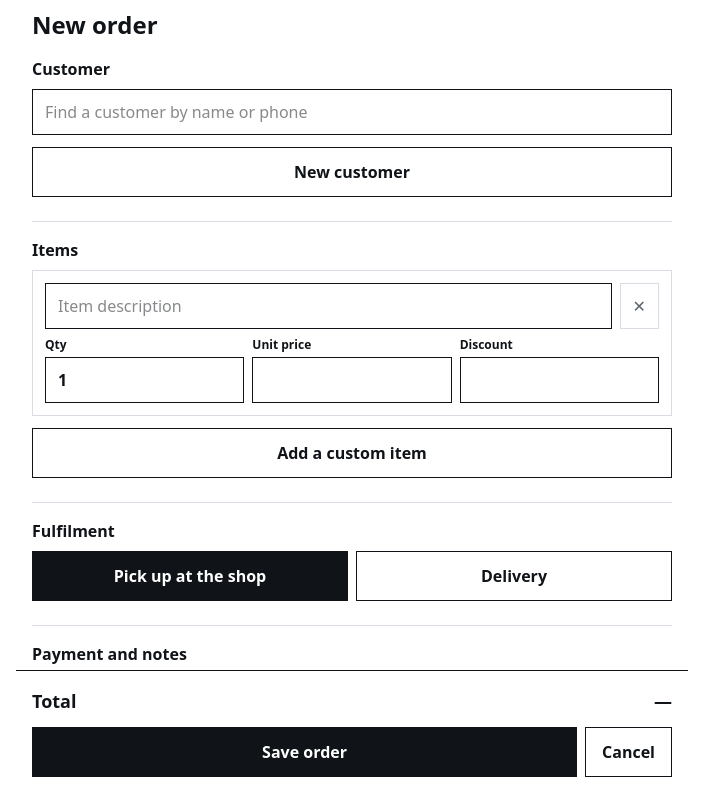
Test: new order screen › explains what is missing instead of failing silently, and saves nothing
This screenshot has width=705, height=793.
Click the button "Save order" at (305, 752), box [32,727,577,777]
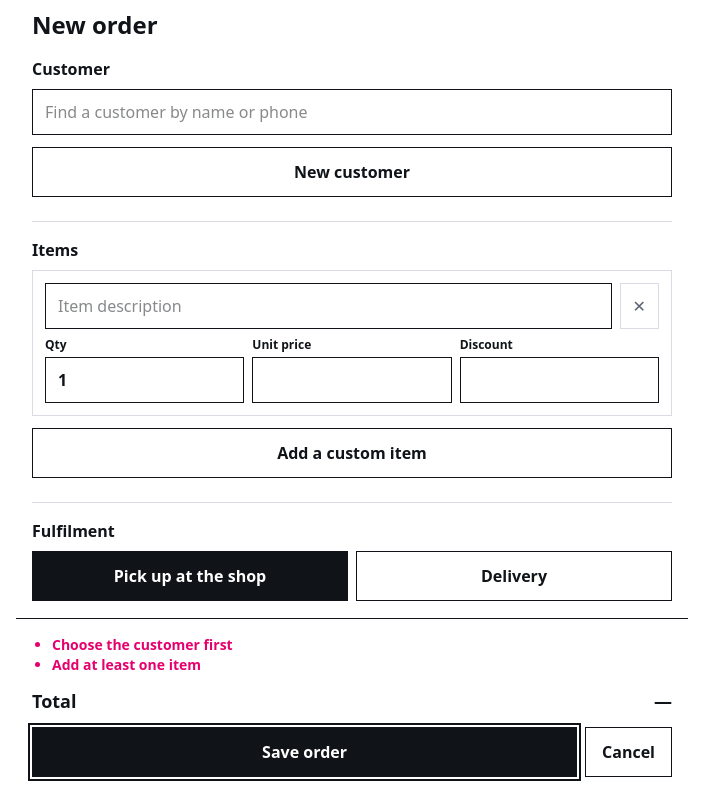
Now the message shows "Choose the customer first", box [52,635,233,654]
Now the message shows "Add at least one item", box [52,655,201,674]
